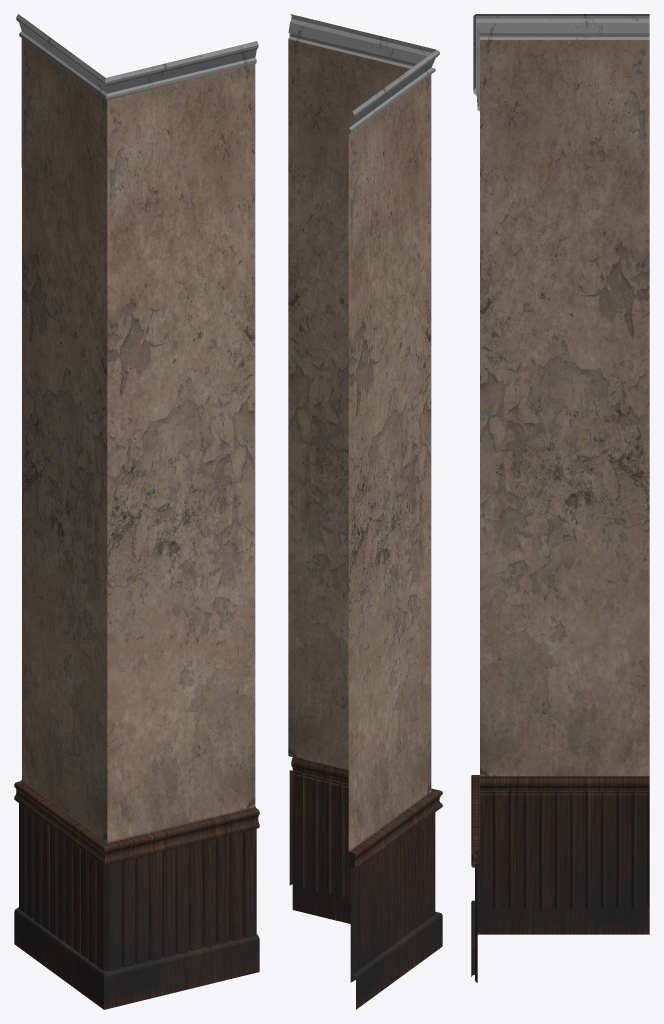
The model's file is Mod_Wall_Corner_A_1x6_High.fbx.
3 views of the same model, side by side, from view 1: azimuth 30°, elevation 25°; view 2: azimuth 150°, elevation 25°; view 3: azimuth 270°, elevation 25° (orthographic). The views are drawn at different scales.
Visible parts, largest first — view 1: Mod_Wall_Corner_A_1x6_High; view 2: Mod_Wall_Corner_A_1x6_High; view 3: Mod_Wall_Corner_A_1x6_High.
Part boxes in pixels (bbox=[...]): Mod_Wall_Corner_A_1x6_High: bbox=[14, 14, 259, 1009]; Mod_Wall_Corner_A_1x6_High: bbox=[288, 14, 442, 1009]; Mod_Wall_Corner_A_1x6_High: bbox=[471, 14, 649, 982].
Bounding box in the file's own units: 105 × 600 × 105.
Materials: 1 (1 with a texture image).
